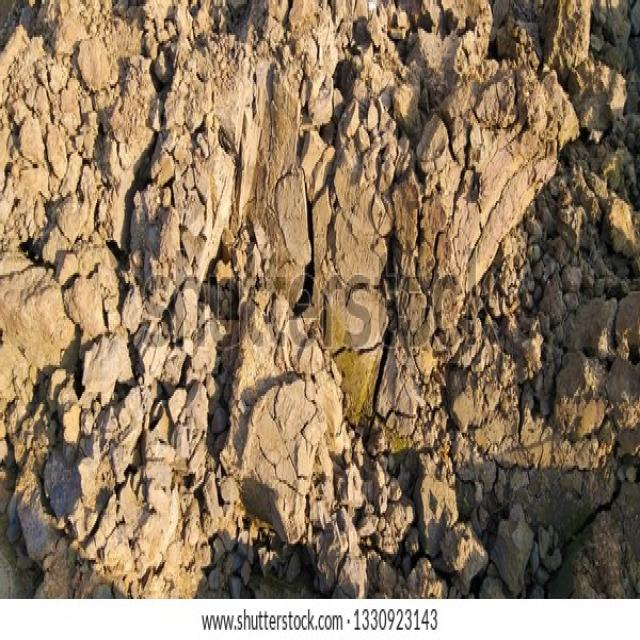Alluvial Soil: (68, 39, 554, 504)
